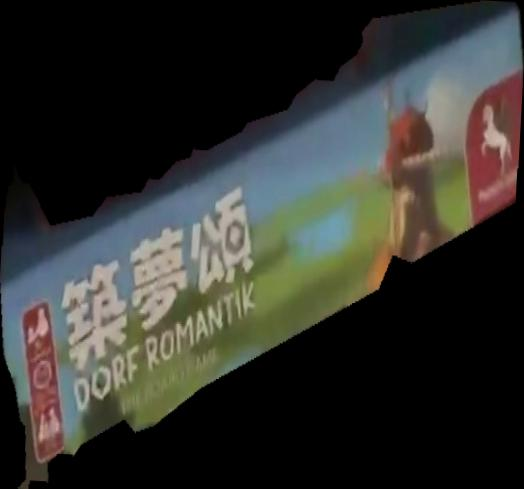flat: (1, 1, 524, 489)
